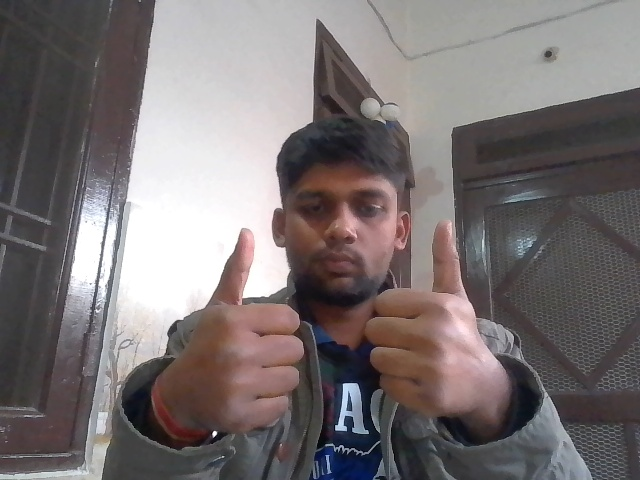Excellent: (173, 216, 507, 435)
